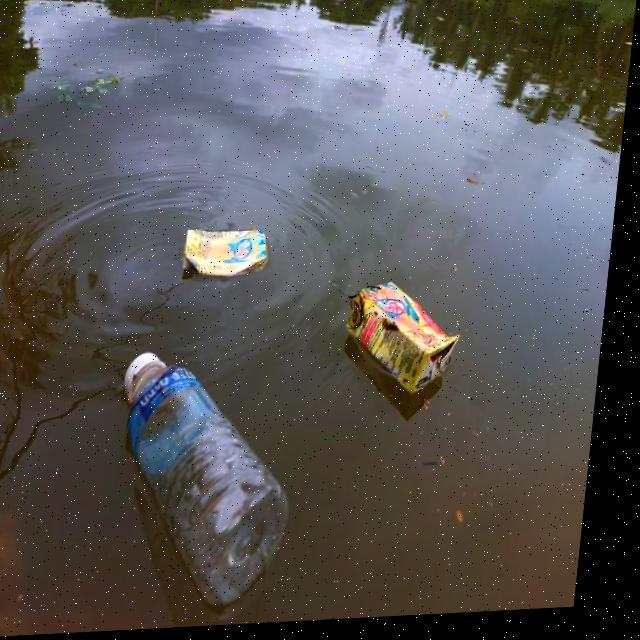paper: (345, 233, 468, 418), (190, 234, 279, 290)
waterbottle: (106, 328, 324, 619)
